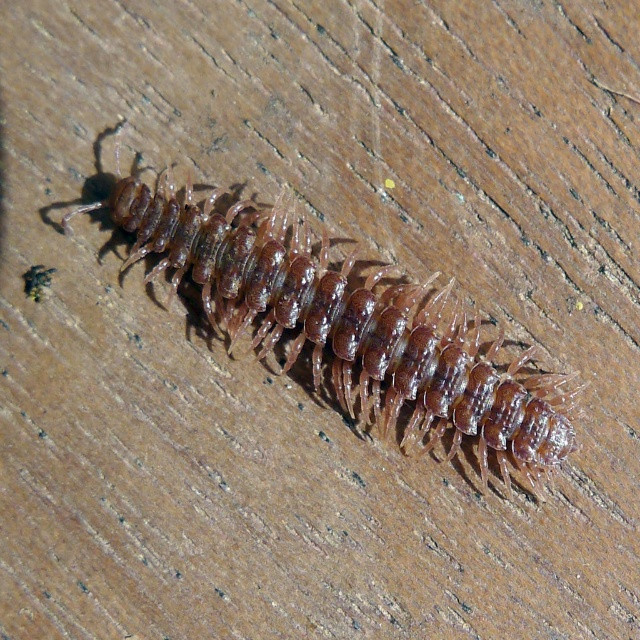Centipede: (55, 125, 590, 502)
